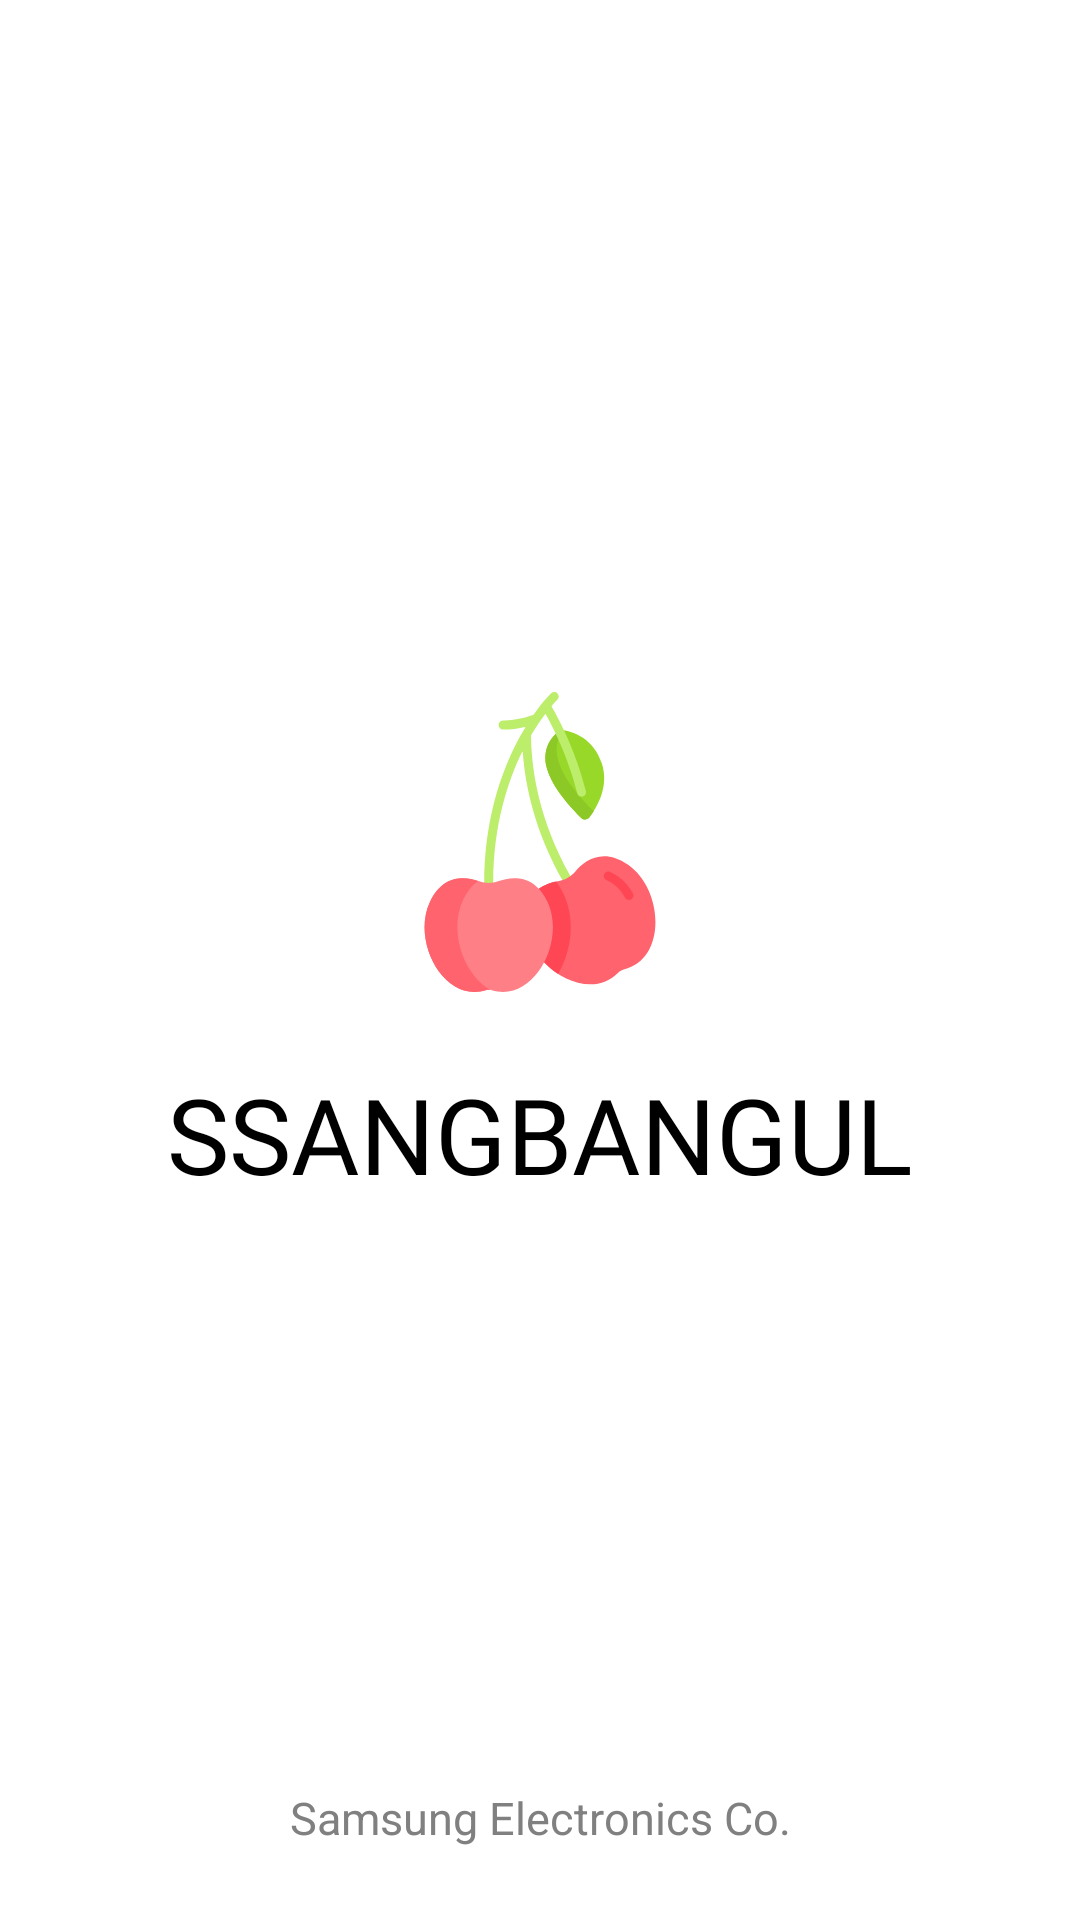

Icon bounding boxes for this 1080w x 1920h phone screenshot, format (x1, y1, x2, y2):
cherry: (424, 692, 656, 992)
